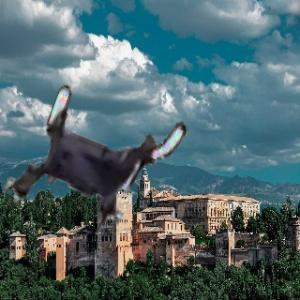drone: (11, 76, 181, 246)
